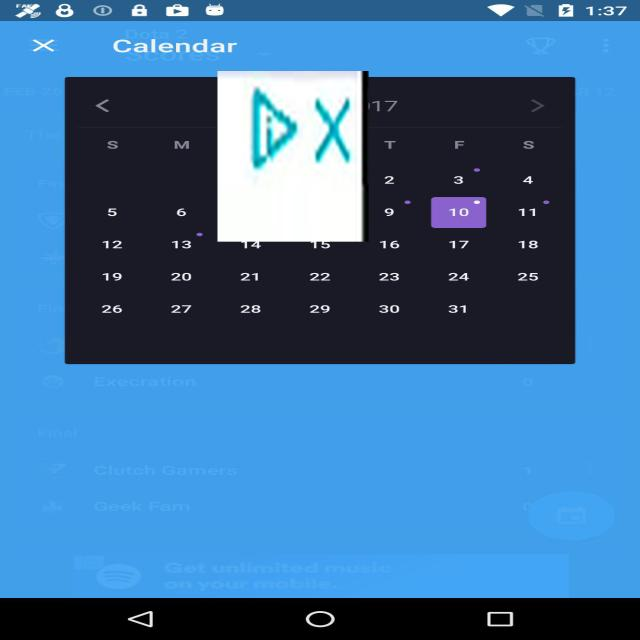sneaking: (218, 71, 368, 242)
